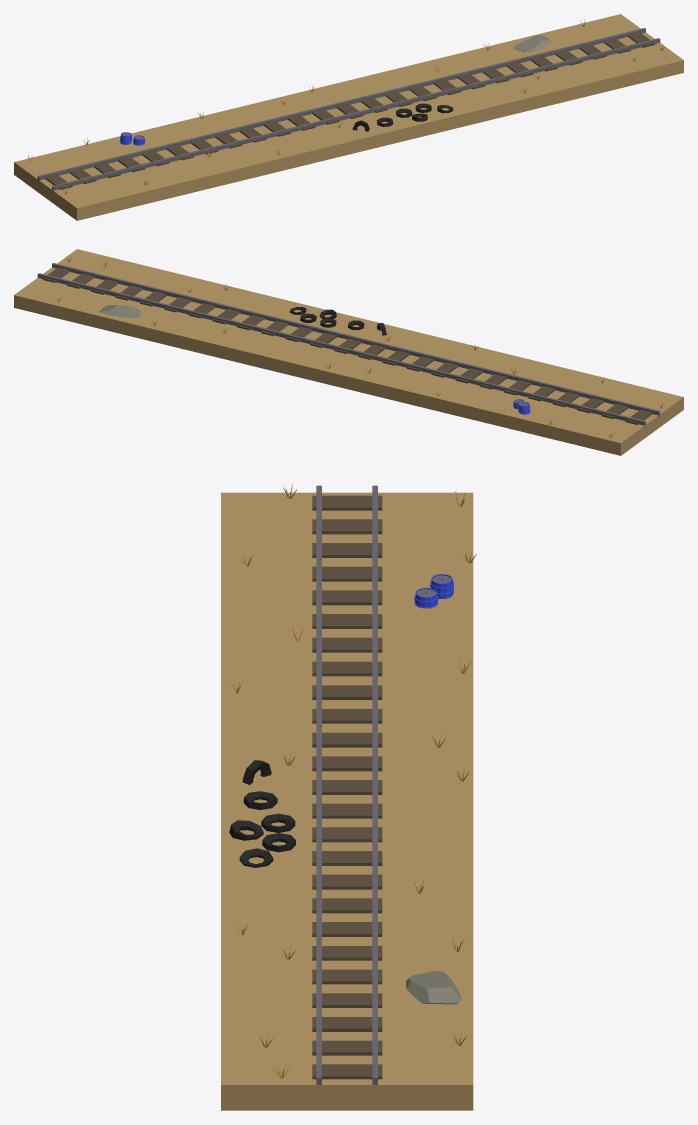
Rendered from Meio-FerroVelho-2.glb.
3 views of the same model, one above another, from view 1: azimuth 30°, elevation 25°; view 2: azimuth 150°, elevation 25°; view 3: azimuth 270°, elevation 25° (orthographic). The views are drawn at different scales.
Parts seen in each view (by area): view 1: CHAO.006, TRILHO.006, PEDRA.025; view 2: CHAO.006, TRILHO.006, PEDRA.025; view 3: CHAO.006, TRILHO.006, PEDRA.025.
Boxes of the visible parts, x1,y1,x2,y2 form: CHAO.006: (14,14,683,220); TRILHO.006: (37,28,660,192); PEDRA.025: (514,35,550,52); CHAO.006: (14,249,683,455); TRILHO.006: (37,263,660,425); PEDRA.025: (99,305,140,317); CHAO.006: (221,492,473,1110); TRILHO.006: (312,485,382,1084); PEDRA.025: (406,971,461,1004).
Size of the model in its own units: 50 by 1.7 by 9.13.
